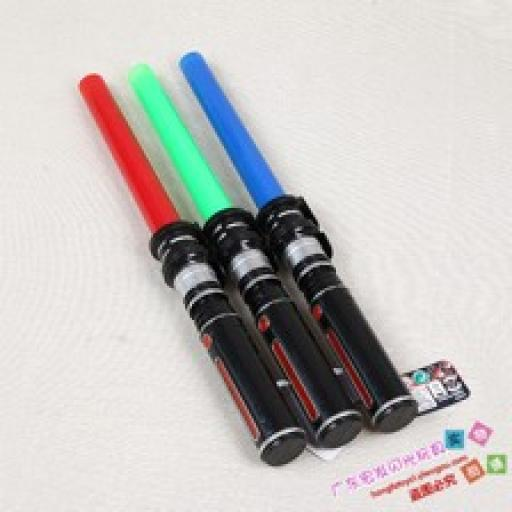lightsaber: (177, 50, 418, 436), (132, 63, 362, 448)
sith saber: (76, 72, 309, 464)
